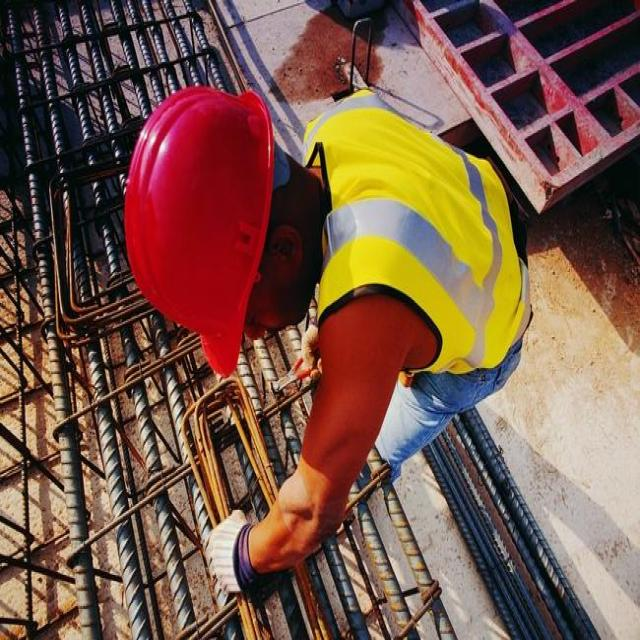Reflective-Jacket: (307, 106, 527, 383)
Safety-Helmet: (121, 80, 278, 381)
